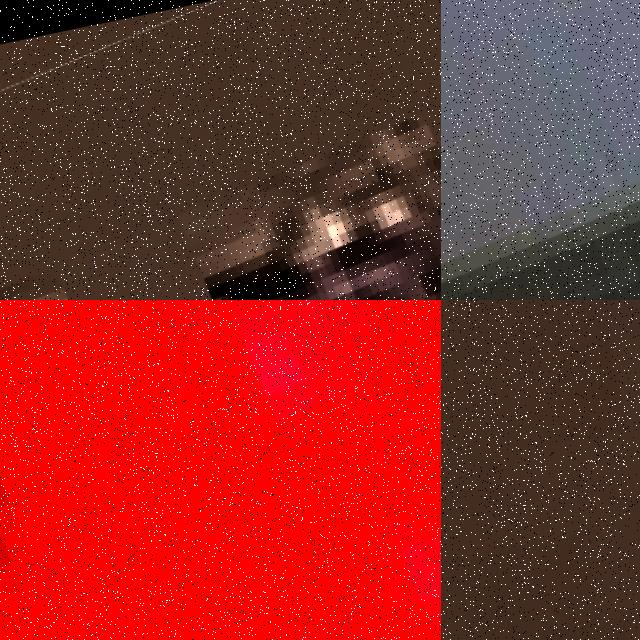0: (0, 0, 441, 300)
drone: (0, 300, 441, 640), (441, 0, 640, 300)
